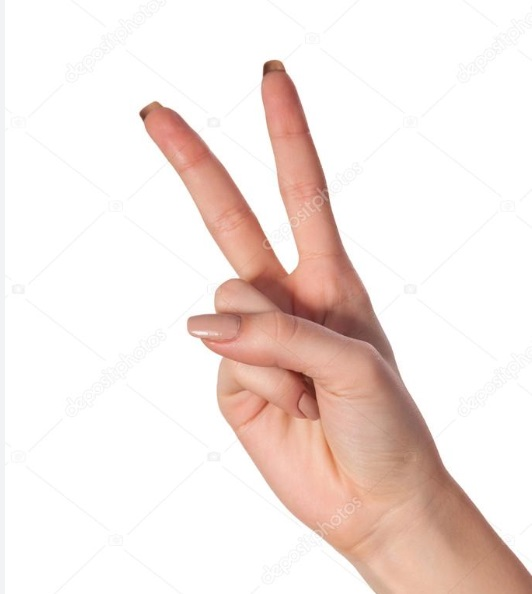peace: (138, 60, 426, 539)
